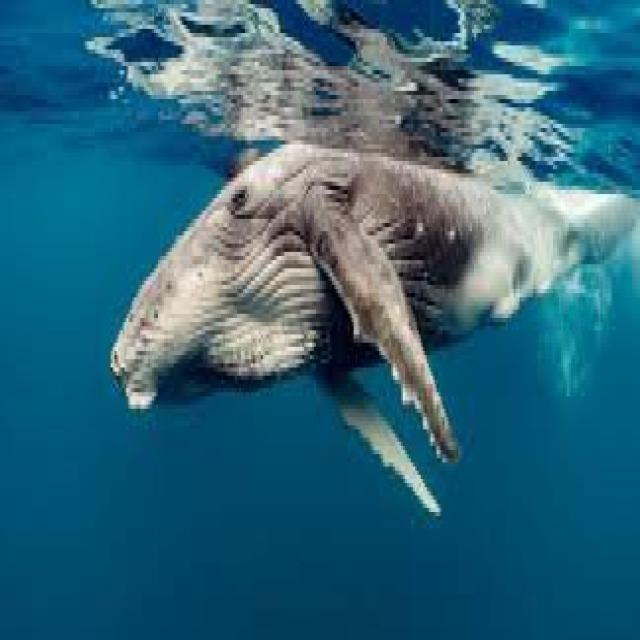whale: (111, 145, 638, 512)
